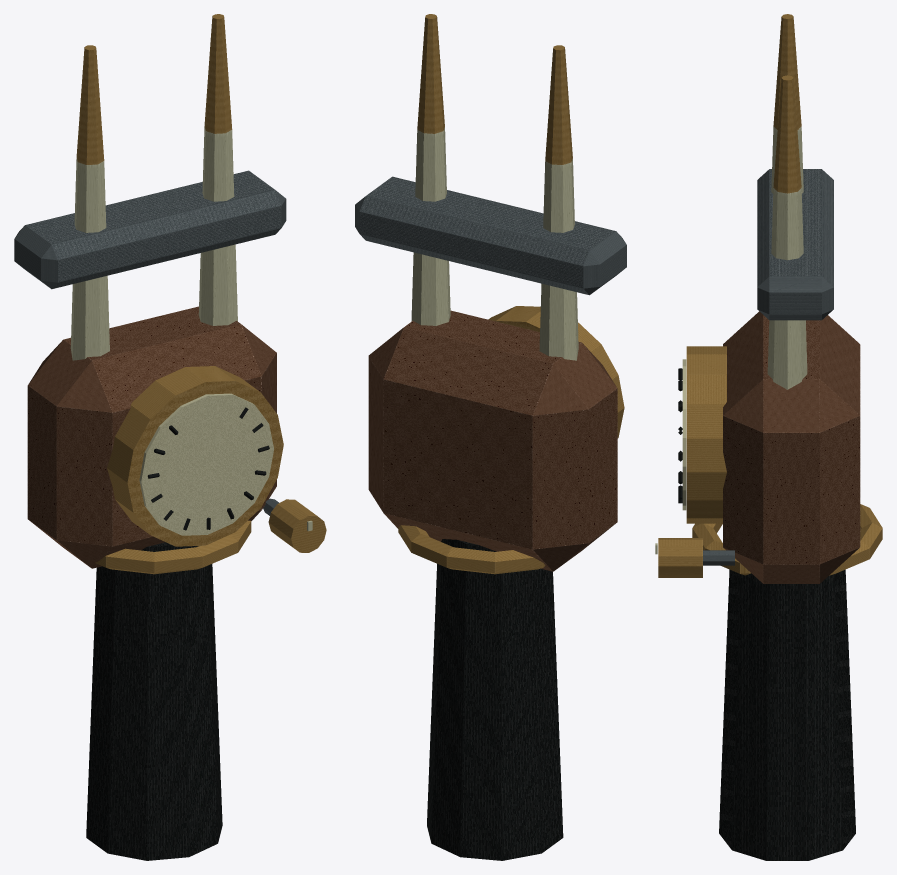
File: blender_ward_stability_probe_1.glb
3 renders of one model, left to right at view 1: azimuth 30°, elevation 25°; view 2: azimuth 150°, elevation 25°; view 3: azimuth 270°, elevation 25°, orthographic.
Parts seen in each view (by area): view 1: blender_ward_stability_probe_1; view 2: blender_ward_stability_probe_1; view 3: blender_ward_stability_probe_1.
Boxes of the visible parts, x1=… form: blender_ward_stability_probe_1: x1=14, y1=14, x2=326, y2=860; blender_ward_stability_probe_1: x1=355, y1=14, x2=626, y2=860; blender_ward_stability_probe_1: x1=655, y1=14, x2=882, y2=860.
Size of the model in its own units: 0.069 by 0.215 by 0.0564.
Materials: 6 (6 with a texture image).
